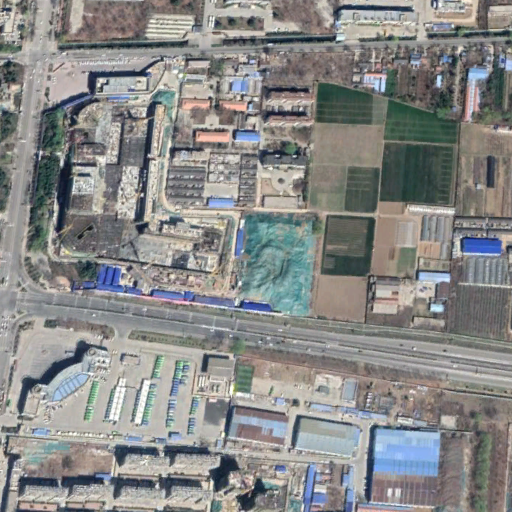cw: (233, 211, 315, 315)
